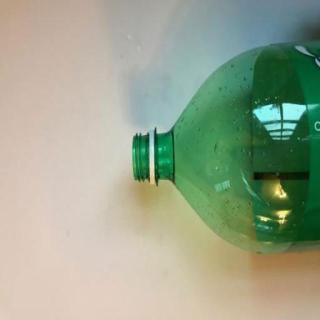Plastic-bottle: (133, 38, 320, 256)
